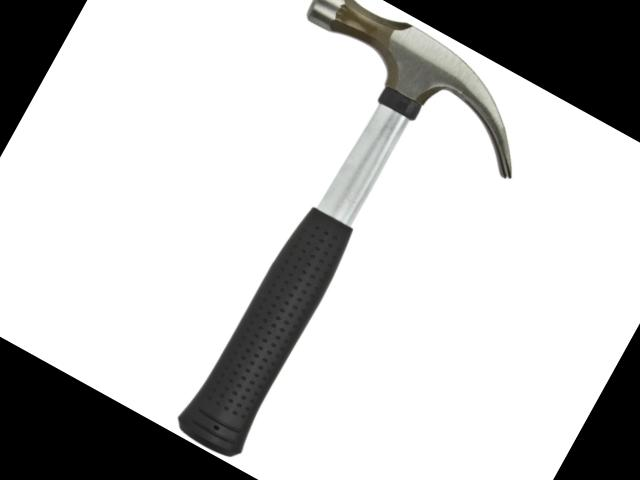hammer: (98, 0, 554, 480)
